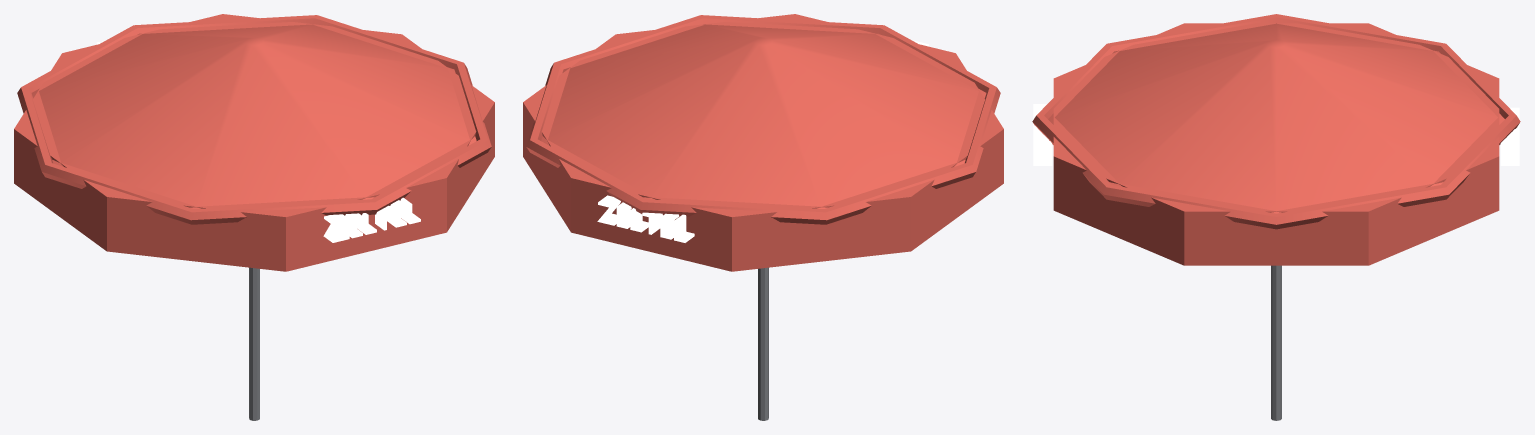
The model's file is umbrella_red.glb.
3 views of the same model, side by side, from view 1: azimuth 30°, elevation 25°; view 2: azimuth 150°, elevation 25°; view 3: azimuth 270°, elevation 25° (orthographic).
Visible parts, largest first — view 1: BLD_umbrella_red; view 2: BLD_umbrella_red; view 3: BLD_umbrella_red.
Boxes of the visible parts, box(x1,y1,x2,y2) form: BLD_umbrella_red: box(14, 14, 494, 420); BLD_umbrella_red: box(523, 14, 1003, 420); BLD_umbrella_red: box(1032, 14, 1520, 420).
Bounding box in the file's own units: 3.1 × 2.62 × 3.1.
